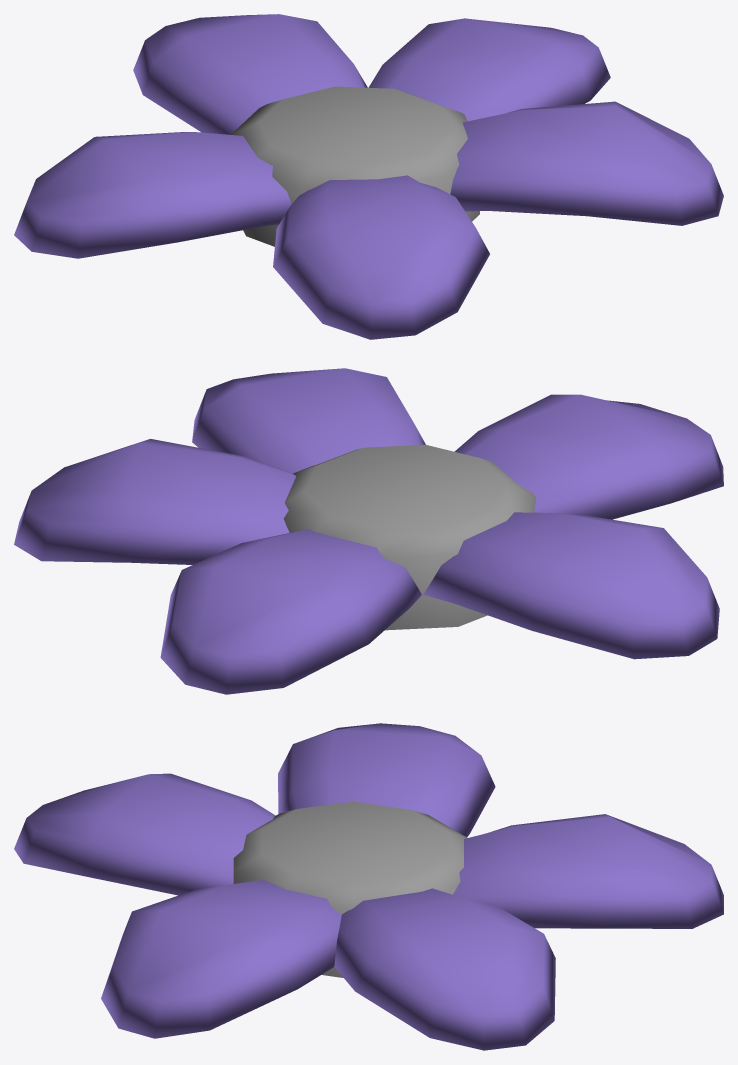
The model's file is fiore01.FBX.
3 renders of one model, top to bottom at view 1: azimuth 30°, elevation 25°; view 2: azimuth 150°, elevation 25°; view 3: azimuth 270°, elevation 25°, orthographic. The views are drawn at different scales.
Visible parts, largest first — view 1: fiore01; view 2: fiore01; view 3: fiore01.
Boxes of the visible parts, x1=… form: fiore01: x1=14, y1=14, x2=723, y2=339; fiore01: x1=14, y1=368, x2=723, y2=694; fiore01: x1=14, y1=723, x2=723, y2=1050.
Size of the model in its own units: 2.77 by 2.76 by 0.3997.
